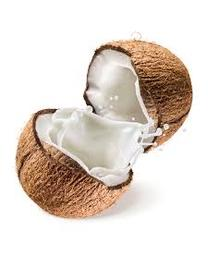coconut: (14, 109, 132, 219), (82, 38, 193, 154)
